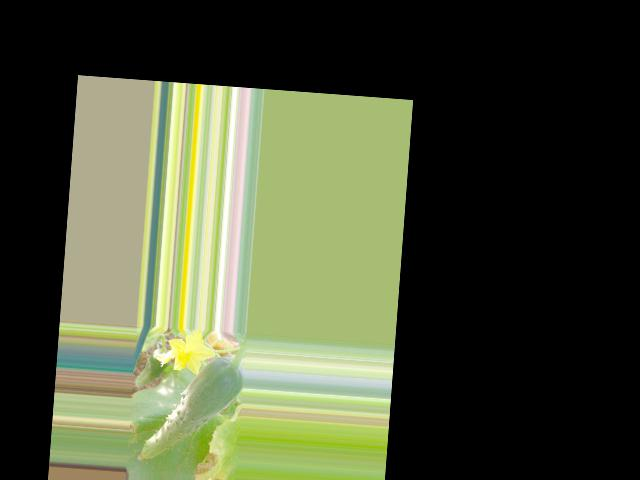cucumber: (137, 350, 245, 468)
